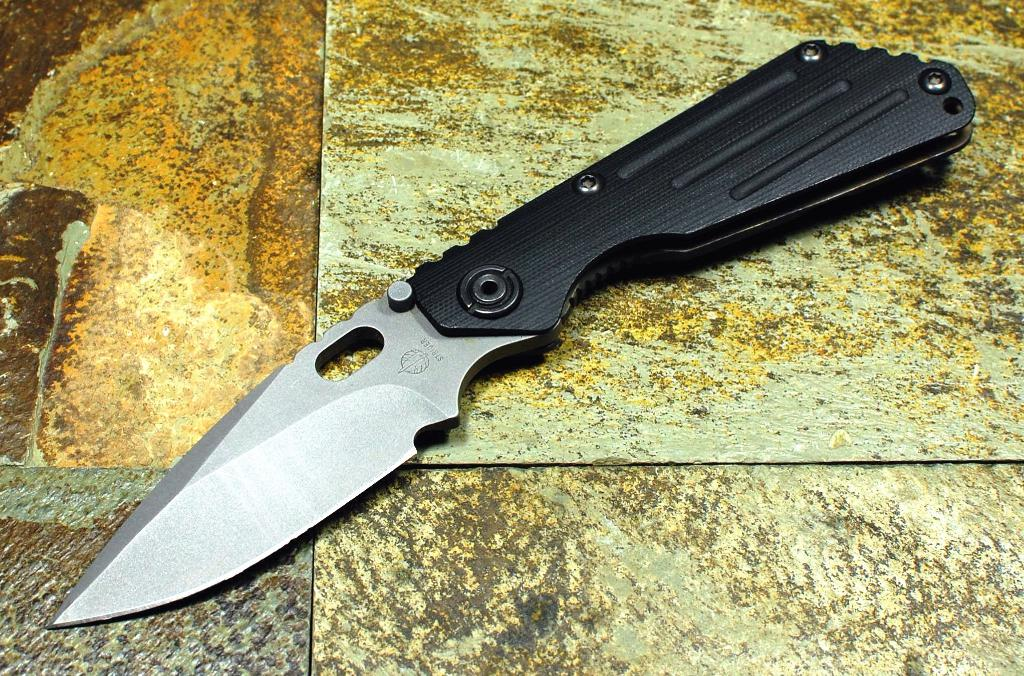knife: (46, 39, 976, 631)
